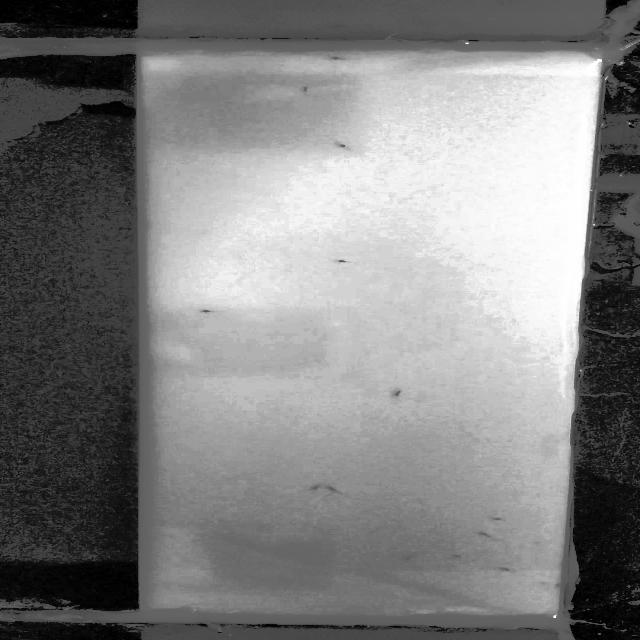shrimp: (324, 56, 364, 65), (332, 141, 357, 153), (335, 256, 360, 266), (399, 550, 417, 562), (389, 388, 404, 401), (198, 307, 230, 313), (484, 514, 506, 522), (477, 530, 494, 540), (308, 482, 324, 491), (324, 484, 342, 492), (300, 84, 312, 96), (451, 552, 462, 560), (500, 566, 513, 572)
